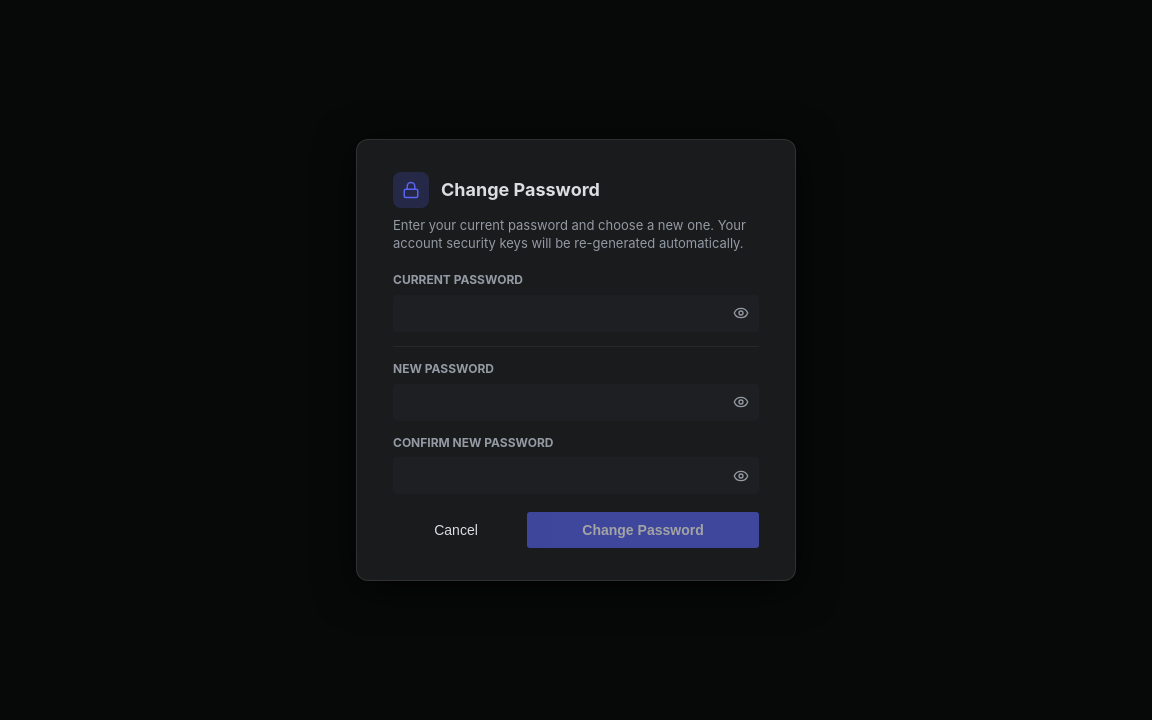
Test case: ChangePasswordModal › shows error when new password is shorter than 8 characters
In the password field with test id "change-password-current": (576, 313) [393, 295, 759, 332], type "correctcurrent"
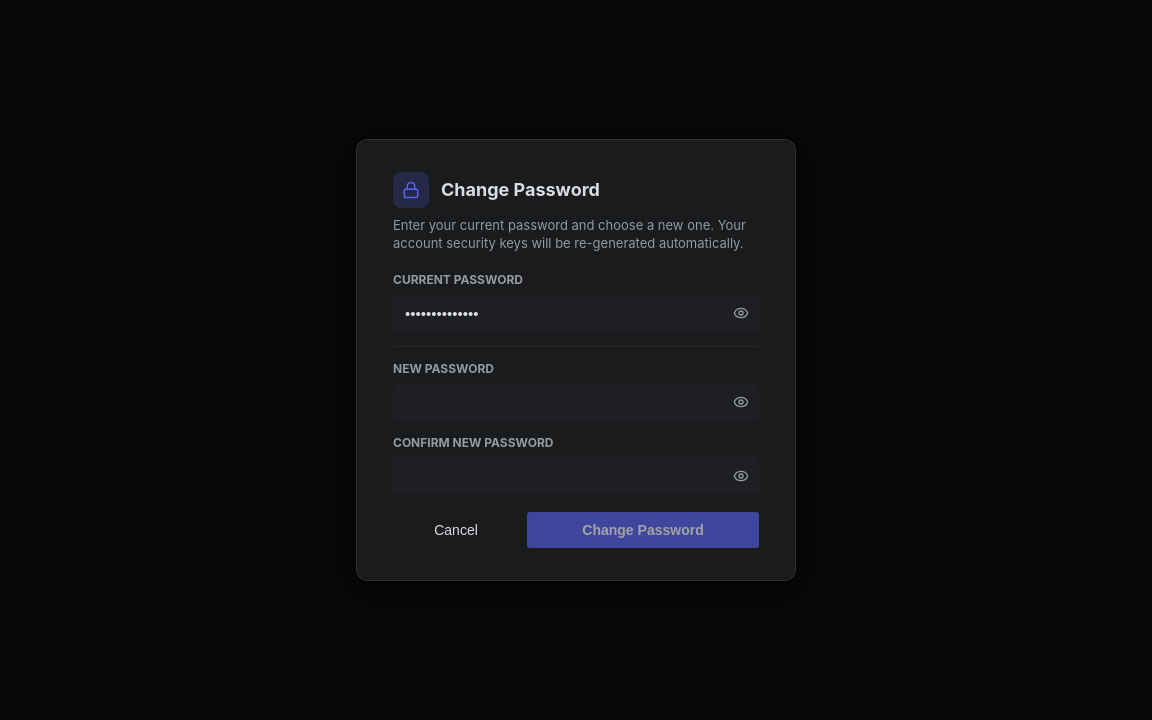
In the password field with test id "change-password-new": (576, 402) [393, 384, 759, 421], type "short"
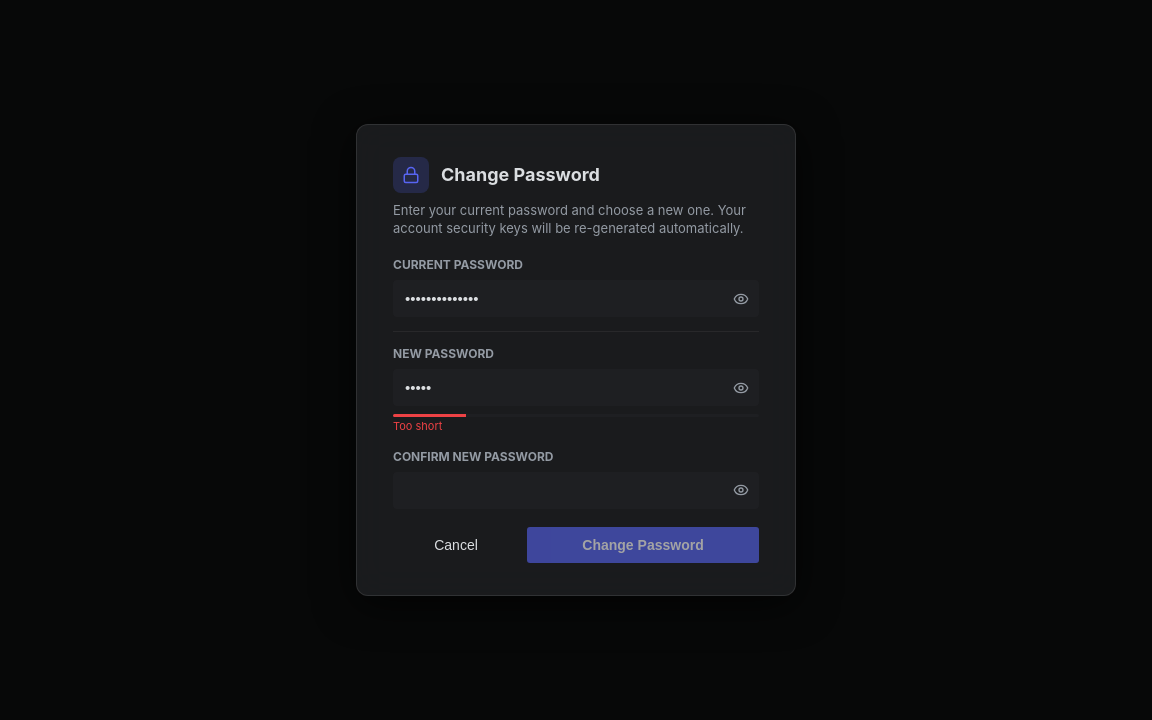
In the password field with test id "change-password-confirm": (576, 490) [393, 472, 759, 509], type "short"
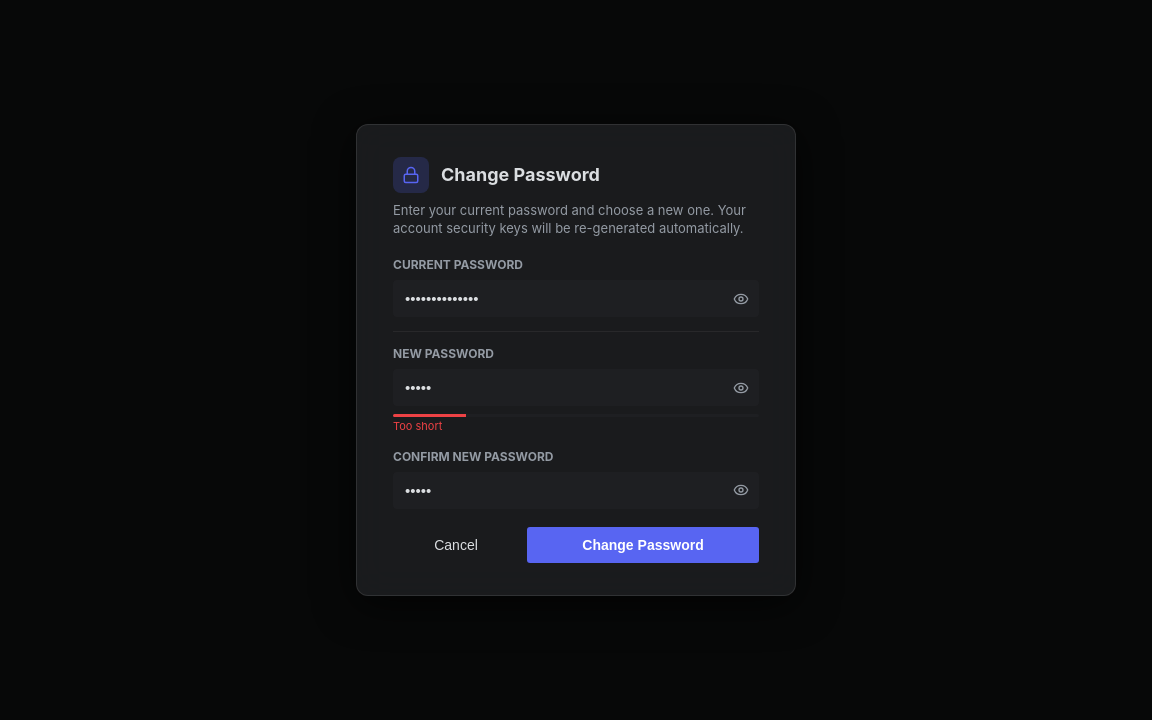
Click the button "Change Password": (643, 545) [527, 527, 759, 563]
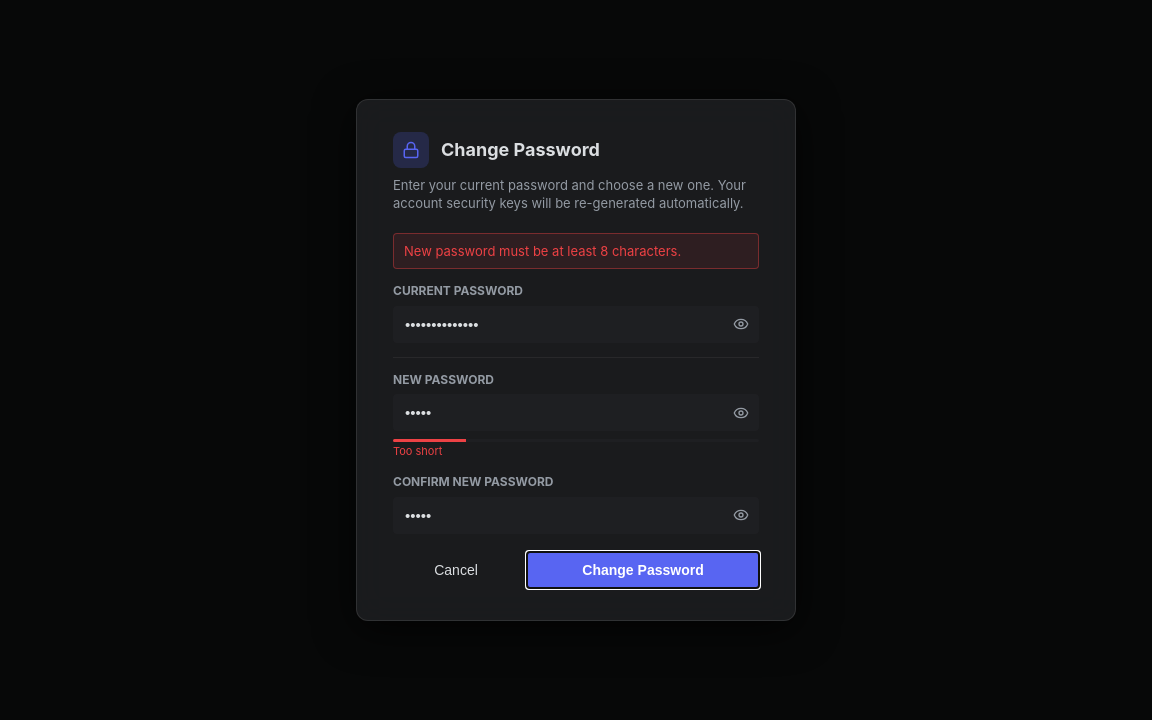
Expected: the text "New password must be at least 8 characters." is shown, [393, 233, 759, 269]
